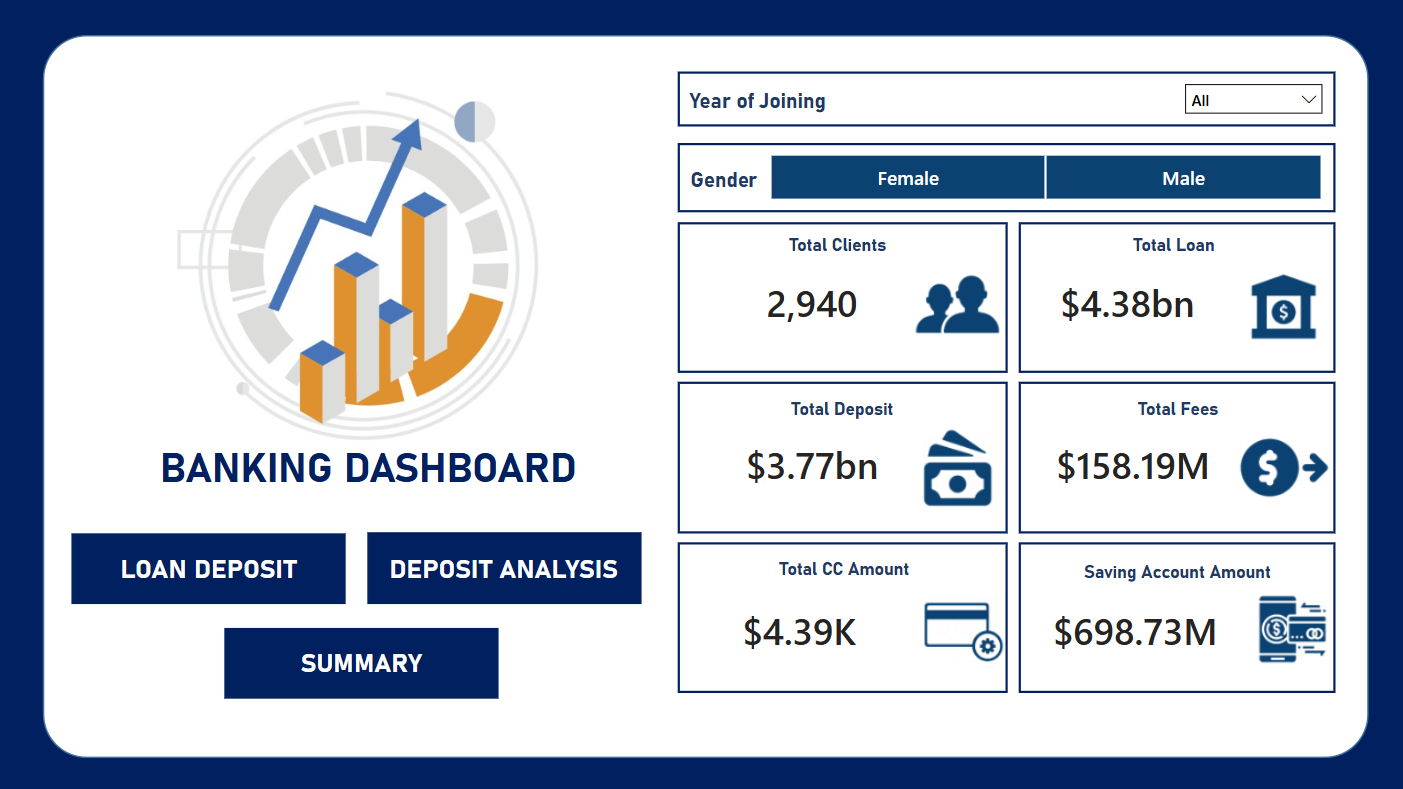

What the dashboard file says about the page in this screenshot:
{"tool":"powerbi","page":{"name":"Home","canvas":[1280,720],"ordinal":0},"visuals":[{"type":"card","fields":{"Values":["DAX Measures.Total Clients"]},"box":[640.3,218.1,198.2,114.9],"z":0},{"type":"card","fields":{"Values":["DAX Measures.Total Loan"]},"box":[933.7,218.2,184,114.9],"z":1000},{"type":"card","fields":{"Values":["DAX Measures.Total Deposit"]},"box":[640.3,374.1,198.2,98.5],"z":2000},{"type":"card","fields":{"Values":["DAX Measures.Total CC Amount"]},"box":[628.5,533.6,198.2,79.7],"z":3000},{"type":"card","fields":{"Values":["DAX Measures.Total Fees"]},"box":[938.1,372.9,185.3,99.7],"z":4000},{"type":"card","fields":{"Values":["DAX Measures.Savings Account"]},"box":[933.4,533.6,198.2,79.7],"z":5000},{"type":"actionButton","box":[63.3,483.1,253.3,65.7],"z":6000},{"type":"actionButton","box":[335.8,483,248.7,65.5],"z":7000},{"type":"actionButton","box":[205.6,573.7,248.7,61],"z":8000},{"type":"slicer","fields":{"Values":["Gender.Gender"]},"box":[676,134.7,548.5,53],"z":9000},{"type":"slicer","fields":{"Values":["Clients - Banking.Year of Joining"]},"box":[1068.3,66.3,145.2,46.2],"z":10000}]}

Visuals, with their boxes in screenshot pixels (x1, y1, x2, y2), scaled from the page's 1280x720 canvas onto the 1403x789 screenshot:
card - DAX Measures.Total Clients: detection(702, 239, 919, 365)
card - DAX Measures.Total Loan: detection(1023, 239, 1225, 365)
card - DAX Measures.Total Deposit: detection(702, 410, 919, 518)
card - DAX Measures.Total CC Amount: detection(689, 585, 906, 672)
card - DAX Measures.Total Fees: detection(1028, 409, 1231, 518)
card - DAX Measures.Savings Account: detection(1023, 585, 1240, 672)
actionButton: detection(69, 529, 347, 601)
actionButton: detection(368, 529, 641, 601)
actionButton: detection(225, 629, 498, 696)
slicer - Gender.Gender: detection(741, 148, 1342, 206)
slicer - Clients - Banking.Year of Joining: detection(1171, 73, 1330, 123)
